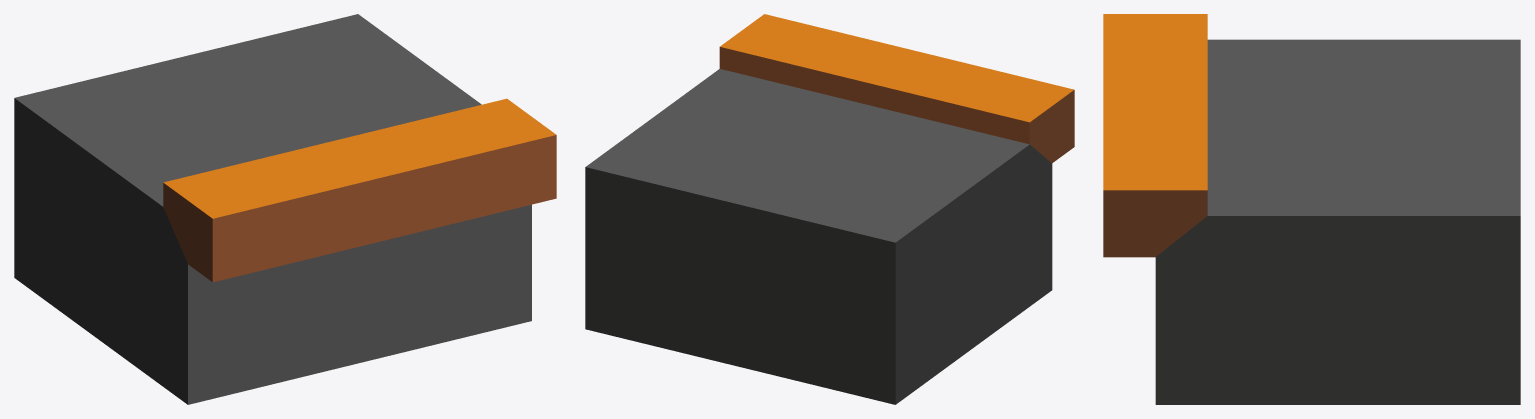
Rendered from COSMIC_F_Perimeter_1U.fbx.
The picture shows the model from 3 angles, left to right: view 1: azimuth 30°, elevation 25°; view 2: azimuth 150°, elevation 25°; view 3: azimuth 270°, elevation 25°; orthographic projection. The views are drawn at different scales.
Visible parts, largest first — view 1: COSMIC_F_Perimeter_1U; view 2: COSMIC_F_Perimeter_1U; view 3: COSMIC_F_Perimeter_1U.
Boxes of the visible parts, left/top/right/bottom form: COSMIC_F_Perimeter_1U: left=14, top=14, right=556, bottom=404; COSMIC_F_Perimeter_1U: left=585, top=14, right=1074, bottom=404; COSMIC_F_Perimeter_1U: left=1103, top=14, right=1520, bottom=404.
Size of the model in its own units: 0.5 by 0.2839 by 0.5.
